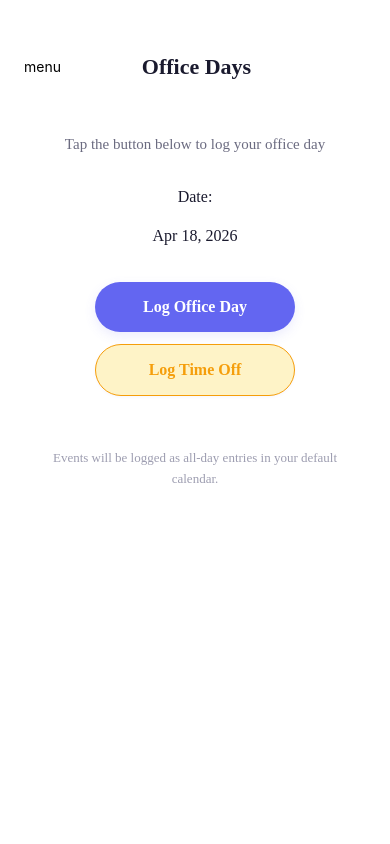
Test: MainScreen › Date Validation › should prevent logging future dates
Expected: the text "Office Days" is shown, [142,54,251,80]
Open date picker
What coordinates should you click on to do the following:
click the element with test id "date-picker-button"
I would click on:
 (195, 236)
Its box is [95,214,295,258].
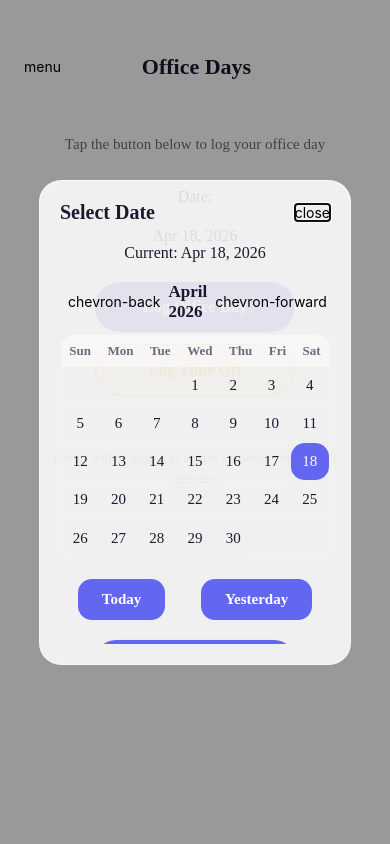
Expected: the text "Select Date" is shown, [60,200,155,224]
Expected: the text "chevron-forward" is shown, [215,293,327,310]
